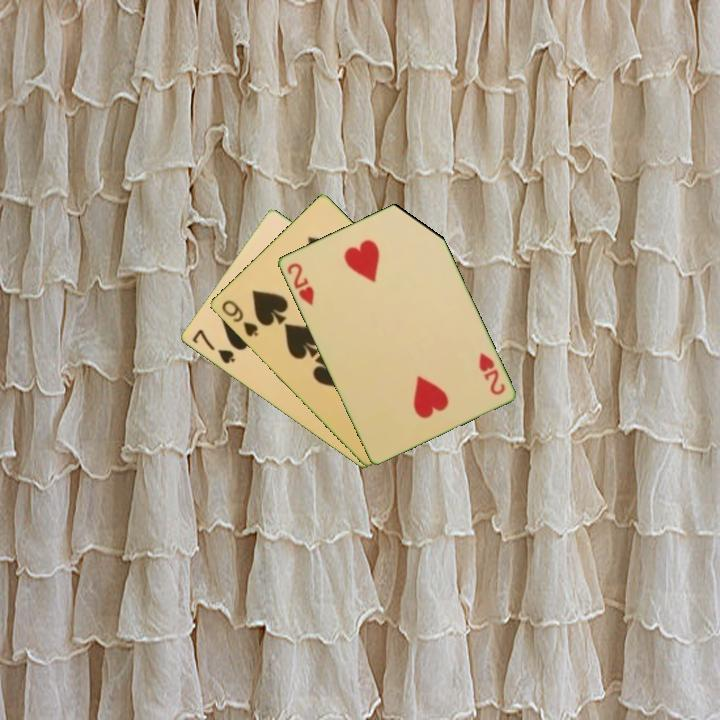2h: (283, 259, 317, 308), (475, 349, 508, 398)
7s: (188, 325, 238, 367)
9s: (218, 296, 261, 340)
